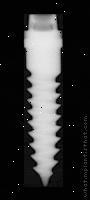Zimmer: (19, 13, 64, 187)
